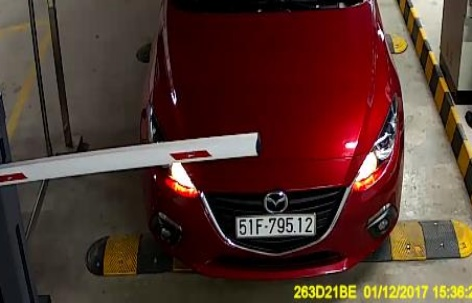plate: (230, 209, 319, 240)
